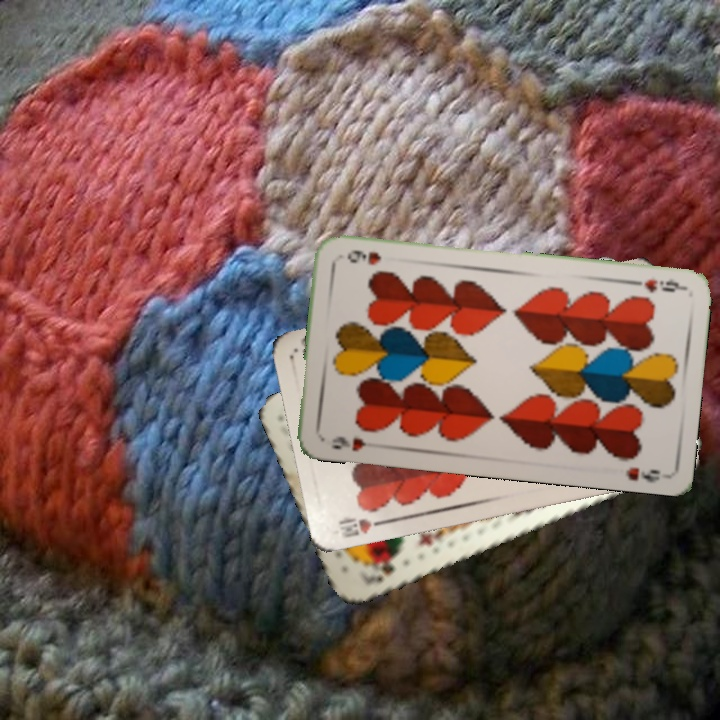H10: (334, 513, 392, 540)
H9: (640, 275, 686, 296), (328, 432, 369, 454)
SK: (366, 550, 403, 588)
